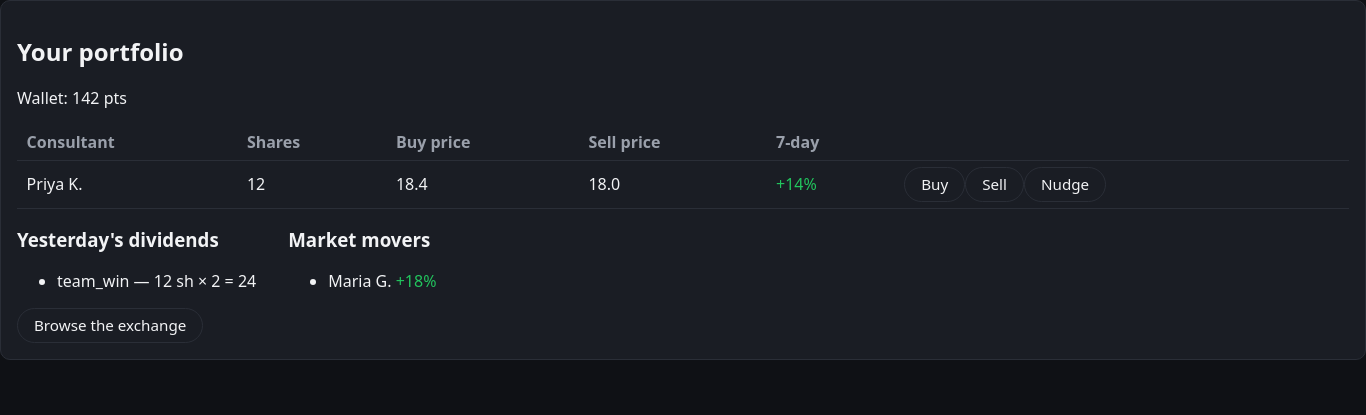
Test: Portfolio › sends a nudge and shows a confirmation
Click the button "Nudge".
click(1065, 184)  # box [1024, 167, 1106, 202]
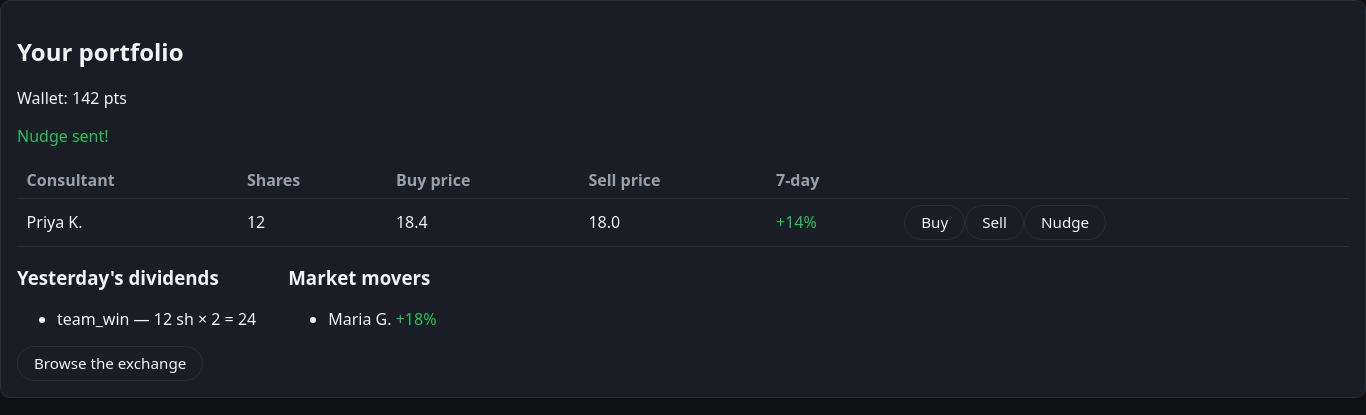
Expected: the text "Nudge sent!" is shown, [17, 125, 109, 147]
